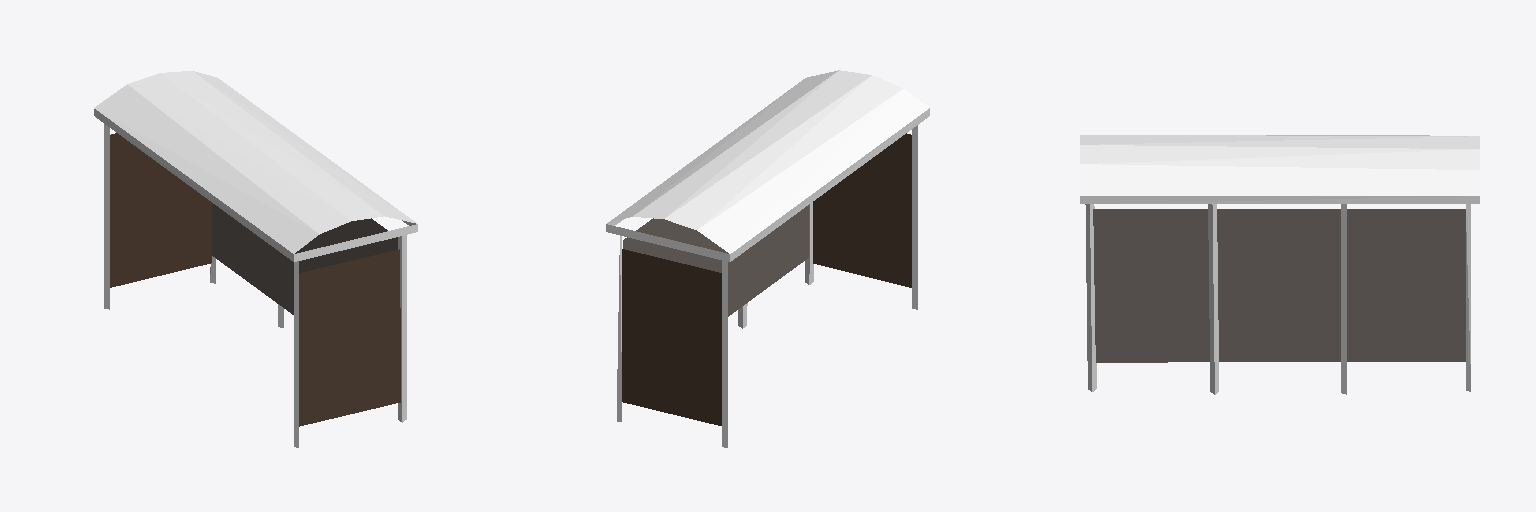
Rendered from stotele.obj.
3 views of the same model, side by side, from view 1: azimuth 30°, elevation 25°; view 2: azimuth 150°, elevation 25°; view 3: azimuth 270°, elevation 25° (orthographic).
Visible parts, largest first — view 1: Mesh15_Bus_Stop_3911_Park_Blvd_B1_Model, Mesh15_Bus_Stop_3911_Park_Blvd_B1_Model.001; view 2: Mesh15_Bus_Stop_3911_Park_Blvd_B1_Model, Mesh15_Bus_Stop_3911_Park_Blvd_B1_Model.001; view 3: Mesh15_Bus_Stop_3911_Park_Blvd_B1_Model.
Part boxes in pixels (bbox=[...]): Mesh15_Bus_Stop_3911_Park_Blvd_B1_Model: bbox=[94, 71, 417, 447]; Mesh15_Bus_Stop_3911_Park_Blvd_B1_Model.001: bbox=[299, 249, 400, 426]; Mesh15_Bus_Stop_3911_Park_Blvd_B1_Model: bbox=[606, 70, 929, 447]; Mesh15_Bus_Stop_3911_Park_Blvd_B1_Model.001: bbox=[813, 133, 911, 287]; Mesh15_Bus_Stop_3911_Park_Blvd_B1_Model: bbox=[1080, 135, 1479, 394].
Bounding box in the file's own units: 1.41 × 2.35 × 3.91.